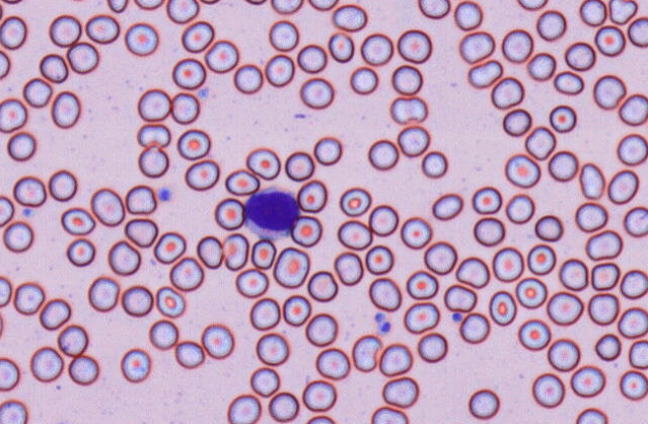MONO: (244, 187, 300, 241)
PLT: (157, 187, 171, 203), (197, 85, 210, 100), (379, 321, 392, 334), (22, 207, 35, 218), (373, 312, 386, 323), (452, 312, 463, 323)
RBC: (273, 246, 309, 288), (90, 187, 125, 226), (504, 153, 540, 188), (546, 291, 583, 325), (29, 346, 63, 382), (531, 372, 565, 408), (381, 376, 419, 408), (169, 256, 203, 291), (107, 240, 141, 275), (201, 323, 234, 359), (397, 29, 431, 63), (204, 39, 238, 73), (423, 240, 457, 274), (255, 332, 289, 366), (124, 22, 158, 56), (593, 74, 626, 109), (315, 347, 350, 380), (570, 364, 605, 397), (87, 276, 119, 312), (403, 301, 439, 333), (492, 246, 524, 282), (585, 229, 622, 260), (490, 76, 524, 109), (368, 277, 401, 311), (379, 342, 412, 376), (302, 379, 336, 412), (246, 147, 280, 180), (524, 125, 556, 160), (501, 28, 533, 63), (459, 31, 494, 63), (607, 169, 639, 204), (51, 90, 80, 128), (153, 231, 186, 264), (48, 14, 81, 47), (547, 338, 580, 371), (360, 32, 393, 65), (137, 88, 170, 121), (305, 312, 337, 346), (455, 256, 489, 288), (171, 57, 205, 89), (299, 77, 333, 109), (176, 128, 210, 160), (337, 219, 372, 250), (184, 159, 219, 190), (39, 297, 71, 330), (137, 145, 169, 178), (181, 20, 214, 52), (66, 41, 99, 73), (517, 318, 550, 350), (400, 216, 432, 249), (587, 292, 619, 325), (13, 281, 44, 315), (120, 348, 151, 382), (226, 393, 261, 423), (290, 215, 322, 247), (57, 324, 88, 357), (13, 175, 46, 206), (214, 197, 245, 230), (249, 297, 280, 330), (296, 179, 327, 212), (124, 217, 158, 247), (333, 251, 363, 285), (85, 13, 119, 43), (467, 59, 502, 88), (60, 206, 95, 235), (222, 233, 249, 270), (307, 270, 338, 302), (267, 391, 299, 422), (459, 312, 490, 344), (2, 220, 33, 252), (121, 285, 153, 316), (468, 388, 500, 419), (515, 277, 547, 308), (397, 125, 429, 156), (575, 201, 607, 232), (616, 133, 647, 165), (264, 54, 294, 87), (235, 268, 268, 298), (443, 283, 477, 312), (224, 168, 259, 196), (332, 3, 367, 31), (488, 290, 516, 325), (68, 354, 99, 385), (249, 366, 280, 397), (594, 25, 625, 56), (367, 139, 398, 170), (391, 64, 422, 95), (547, 150, 578, 181), (268, 19, 298, 51), (473, 216, 505, 246), (368, 204, 398, 236), (170, 92, 200, 124), (617, 306, 647, 338), (339, 186, 371, 216), (155, 285, 185, 317), (405, 270, 438, 299), (559, 258, 588, 291), (618, 93, 647, 126), (0, 97, 27, 132), (536, 9, 566, 40), (233, 63, 263, 94), (564, 41, 595, 71), (125, 184, 156, 214), (48, 169, 77, 201), (282, 294, 311, 326), (526, 243, 555, 275), (22, 77, 52, 107), (148, 319, 178, 349), (417, 332, 447, 362), (297, 43, 327, 73), (284, 151, 314, 181), (505, 193, 534, 224), (431, 192, 463, 220), (196, 235, 223, 268), (0, 15, 26, 49), (7, 131, 36, 161), (39, 53, 68, 83), (471, 186, 502, 214), (619, 369, 647, 400), (136, 123, 170, 148), (313, 136, 342, 165), (66, 238, 95, 267), (174, 340, 204, 368), (590, 262, 620, 290), (365, 244, 393, 274), (454, 0, 482, 30), (349, 66, 378, 94), (502, 108, 531, 136), (527, 52, 556, 80), (327, 32, 354, 62), (620, 269, 647, 299), (250, 238, 276, 269), (534, 214, 563, 241), (553, 70, 584, 95), (594, 333, 621, 361), (549, 104, 576, 132), (623, 206, 647, 237), (166, 0, 198, 23), (421, 150, 447, 178), (579, 0, 606, 26), (608, 0, 637, 24), (370, 405, 408, 423), (0, 399, 27, 423), (0, 357, 19, 391), (417, 0, 450, 19), (627, 16, 647, 47), (628, 339, 647, 369), (575, 407, 608, 423), (270, 0, 303, 14), (0, 195, 14, 226), (0, 275, 12, 307), (517, 0, 548, 10), (133, 0, 163, 10), (308, 0, 338, 10), (0, 49, 10, 78), (106, 0, 127, 13), (305, 414, 335, 423), (244, 0, 266, 5), (0, 312, 4, 337), (1, 0, 23, 4), (199, 0, 220, 4), (0, 3, 3, 20), (66, 0, 88, 2)
Schistocyte: (353, 335, 384, 372), (389, 97, 429, 124), (579, 162, 605, 199)
